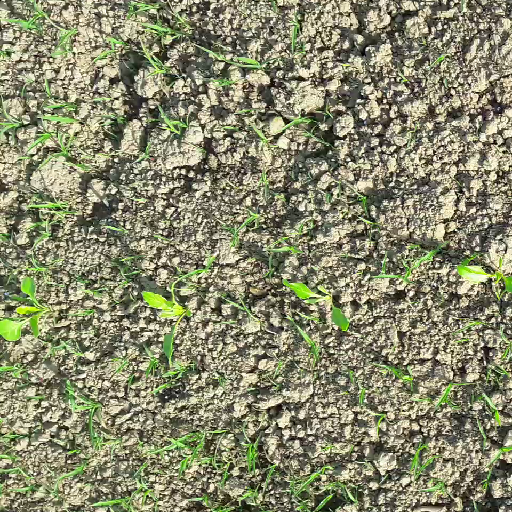sugarbeet: (138, 269, 206, 360), (278, 275, 352, 335), (1, 272, 54, 345), (451, 261, 512, 302)
weed: (1, 1, 512, 511)
